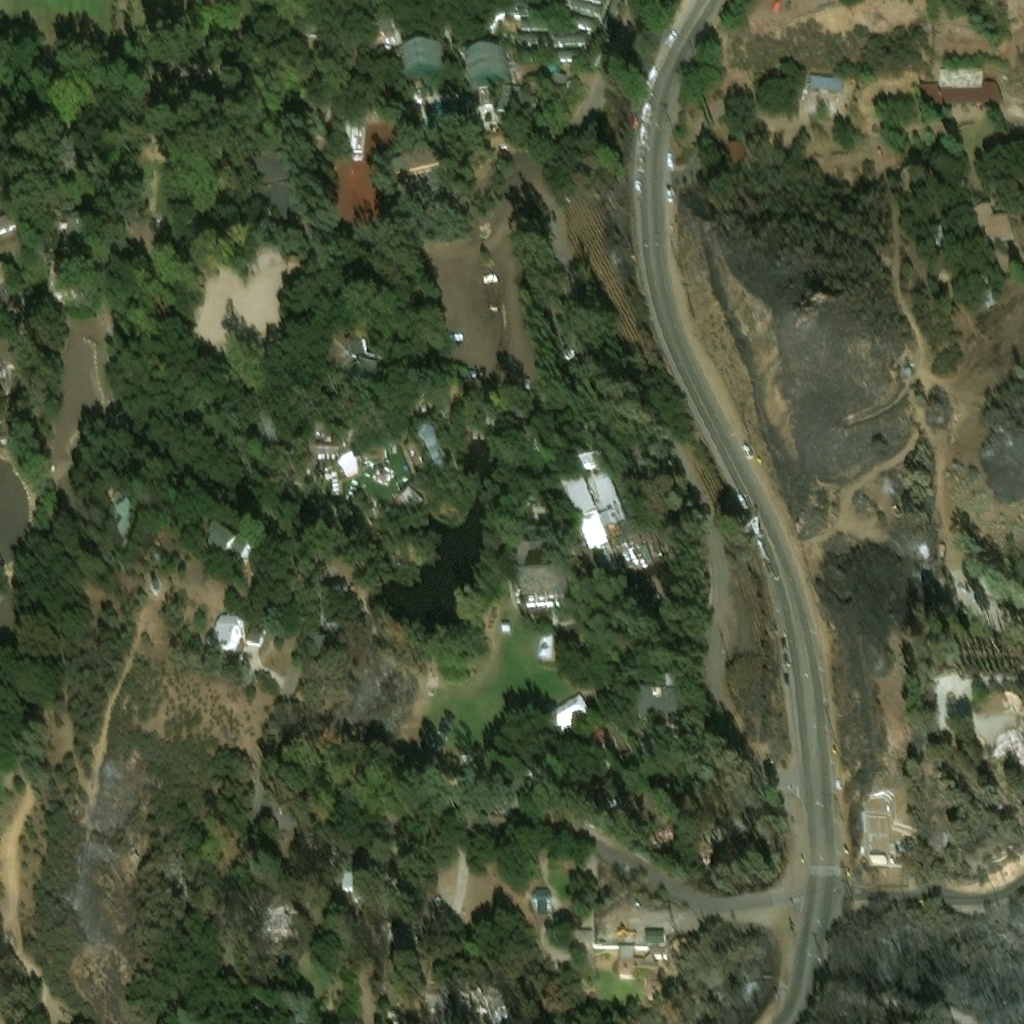0 no-damage: (329, 118, 397, 230), (559, 455, 629, 553), (236, 149, 302, 229), (331, 337, 383, 392), (425, 980, 483, 1023), (339, 869, 395, 913), (628, 686, 680, 731), (479, 974, 528, 1020), (541, 689, 591, 733), (464, 46, 516, 88), (919, 79, 1002, 105), (519, 566, 571, 607), (965, 202, 1014, 245), (402, 43, 447, 84), (204, 521, 251, 560), (97, 501, 141, 542), (45, 259, 83, 302), (0, 279, 36, 323), (421, 426, 451, 475), (392, 477, 426, 516), (618, 947, 658, 979), (497, 85, 538, 116), (205, 614, 242, 648), (252, 410, 282, 450), (53, 209, 88, 242), (639, 731, 670, 766), (518, 541, 554, 570), (938, 68, 984, 89), (545, 0, 601, 16), (527, 884, 553, 911), (299, 31, 327, 54), (57, 148, 79, 177), (923, 219, 947, 244), (807, 73, 846, 88), (519, 17, 555, 33), (337, 449, 360, 474), (383, 1006, 415, 1023), (554, 33, 591, 47), (601, 0, 619, 28), (536, 630, 553, 658), (571, 14, 598, 31), (517, 35, 554, 47), (244, 624, 266, 644), (553, 48, 586, 61), (726, 135, 746, 156), (421, 890, 440, 910), (376, 19, 394, 40), (646, 978, 666, 996), (645, 929, 666, 946), (551, 71, 567, 86), (462, 371, 478, 385), (579, 932, 595, 944), (649, 947, 668, 957), (578, 0, 606, 6), (500, 620, 511, 632), (873, 857, 886, 865)
3 destroyed: (996, 723, 1023, 763)
